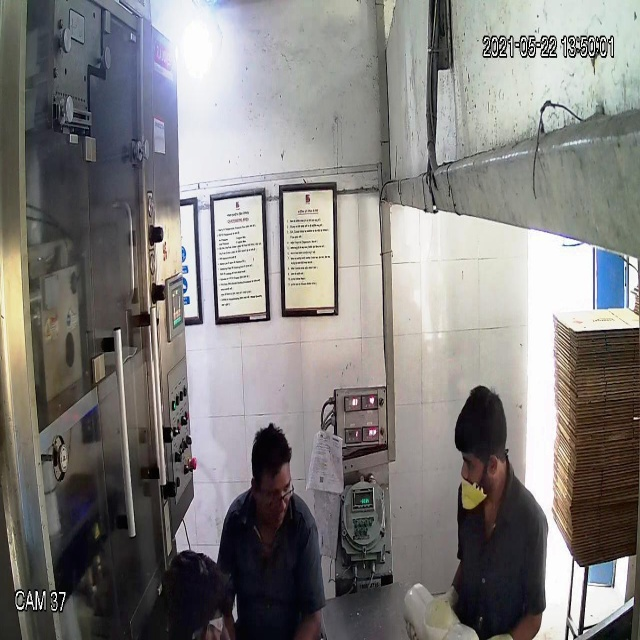Gafas: (253, 476, 296, 509)
